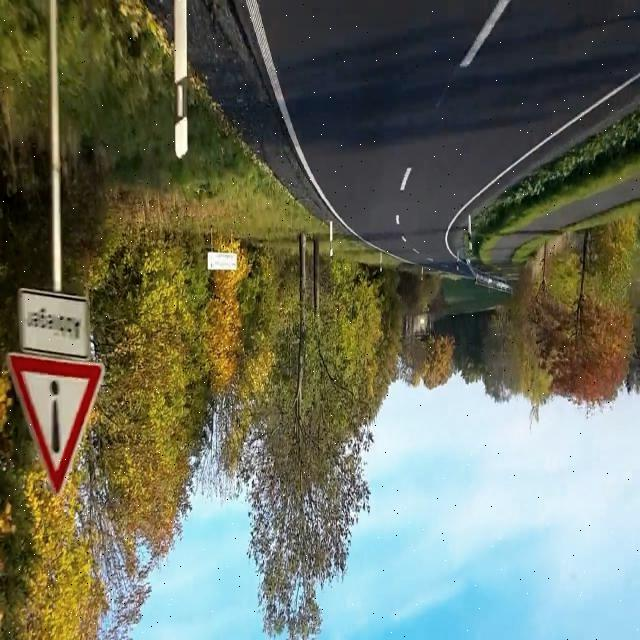lane: (444, 72, 639, 253), (245, 0, 379, 250), (461, 1, 511, 68), (400, 168, 411, 191)
road: (260, 1, 640, 271)
